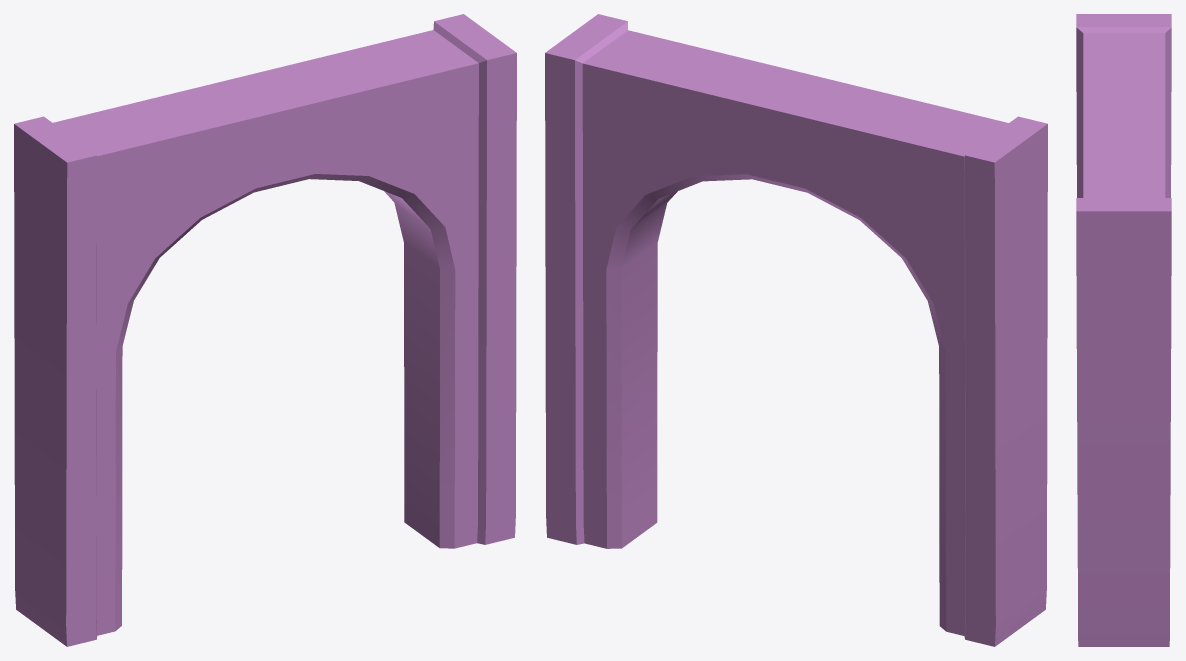
The model's file is Arc_C.fbx.
3 renders of one model, left to right at view 1: azimuth 30°, elevation 25°; view 2: azimuth 150°, elevation 25°; view 3: azimuth 270°, elevation 25°, orthographic. The views are drawn at different scales.
Visible parts, largest first — view 1: Arc_C; view 2: Arc_C; view 3: Arc_C.
Part boxes in pixels (x1=…): Arc_C: x1=14, y1=14, x2=516, y2=646; Arc_C: x1=545, y1=14, x2=1047, y2=646; Arc_C: x1=1076, y1=14, x2=1171, y2=646.
Bounding box in the file's own units: 899 × 927 × 184.
